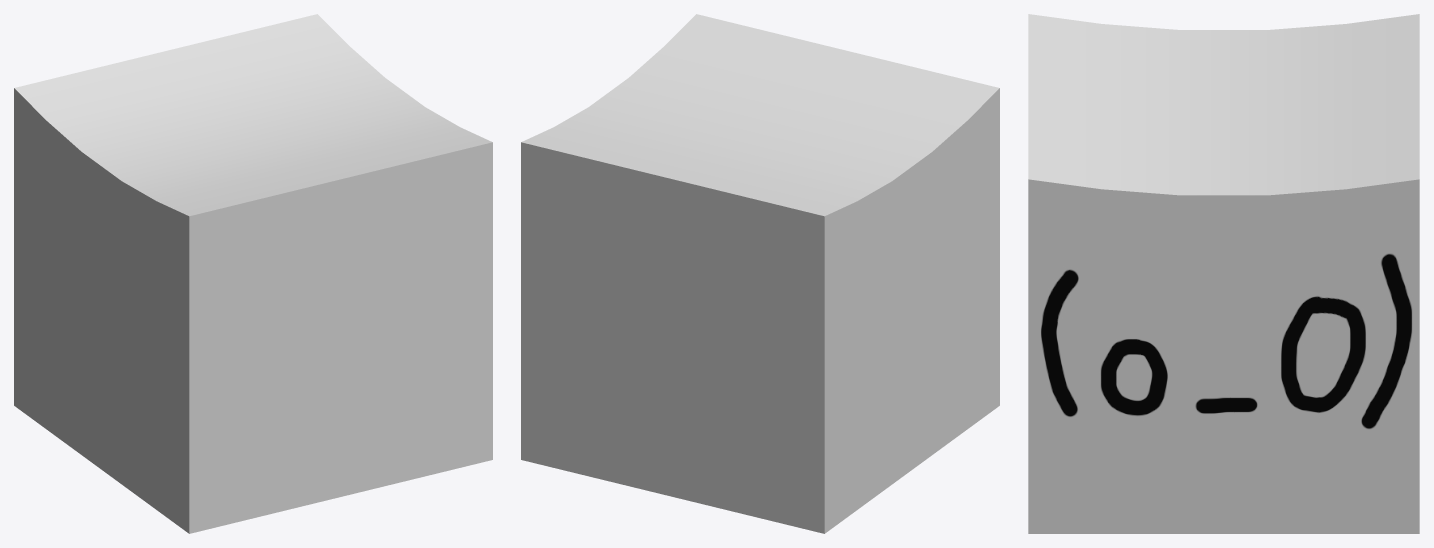
The picture shows the model from 3 angles, left to right: view 1: azimuth 30°, elevation 25°; view 2: azimuth 150°, elevation 25°; view 3: azimuth 270°, elevation 25°; orthographic projection. The views are drawn at different scales.
Visible parts, largest first — view 1: Cube; view 2: Cube; view 3: Cube.
Part boxes in pixels (bbox=[...]): Cube: bbox=[14, 14, 492, 533]; Cube: bbox=[521, 14, 999, 533]; Cube: bbox=[1028, 14, 1419, 533].
Size of the model in its own units: 200 by 200 by 200.
Materials: 1 (1 with a texture image).
